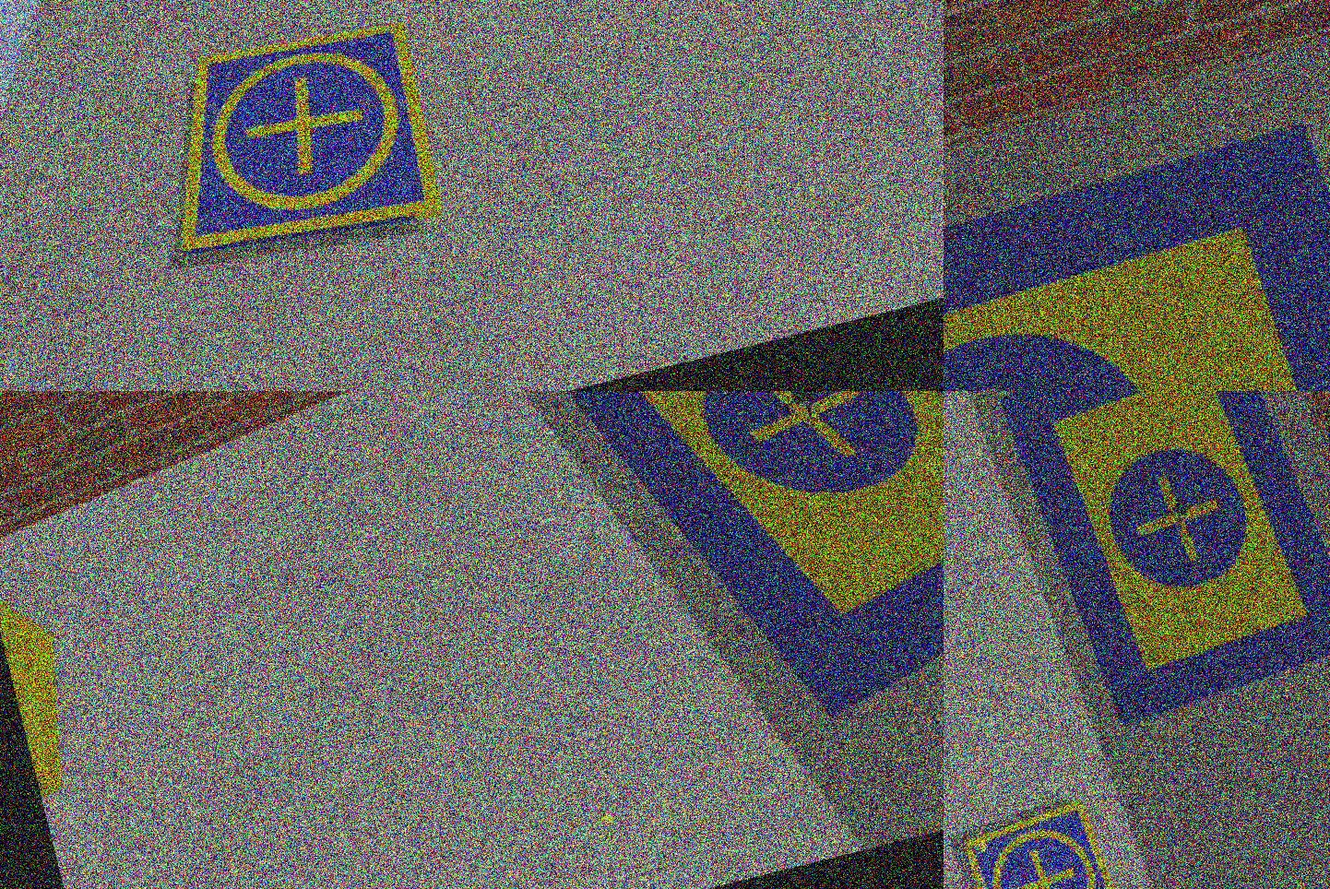large_base: (517, 391, 944, 768), (992, 391, 1330, 738), (944, 110, 1330, 391)
small_base: (132, 2, 460, 291), (956, 795, 1128, 889)
